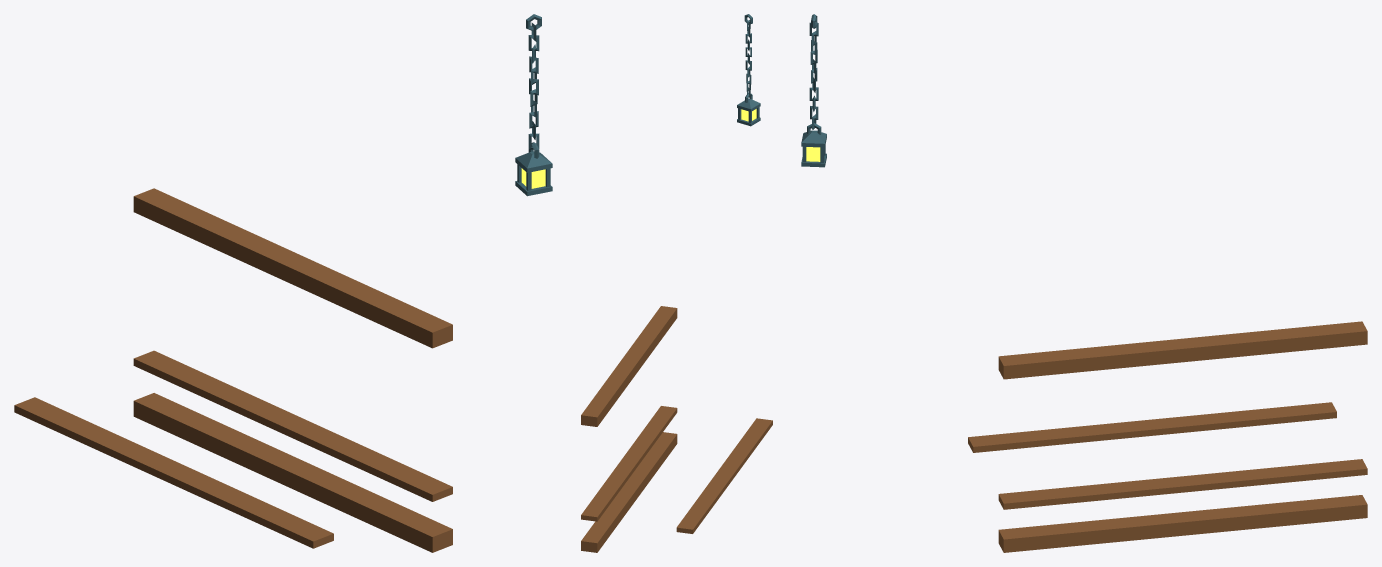
The picture shows the model from 3 angles, left to right: view 1: azimuth 30°, elevation 25°; view 2: azimuth 150°, elevation 25°; view 3: azimuth 270°, elevation 25°; orthographic projection. The views are drawn at different scales.
Visible parts, largest first — view 1: Box585_brown_0, Box530_brown_0, Box528_brown_0, Box15664_metal_0; view 2: Box585_brown_0, Box530_brown_0, Box528_brown_0, Box15664_metal_0; view 3: Box585_brown_0, Box530_brown_0, Box528_brown_0, Box15664_metal_0.
Part boxes in pixels (x1,y1,x2,y2): Box585_brown_0: [14, 350, 452, 548]; Box530_brown_0: [133, 188, 452, 348]; Box528_brown_0: [133, 393, 452, 552]; Box15664_metal_0: [515, 151, 552, 196]; Box585_brown_0: [581, 406, 772, 533]; Box530_brown_0: [581, 306, 677, 426]; Box528_brown_0: [581, 432, 677, 552]; Box15664_metal_0: [737, 98, 760, 126]; Box585_brown_0: [968, 402, 1367, 509]; Box530_brown_0: [998, 321, 1367, 379]; Box528_brown_0: [998, 495, 1367, 552]; Box15664_metal_0: [801, 130, 826, 167].
Size of the model in its own units: 405 by 980 by 956.
